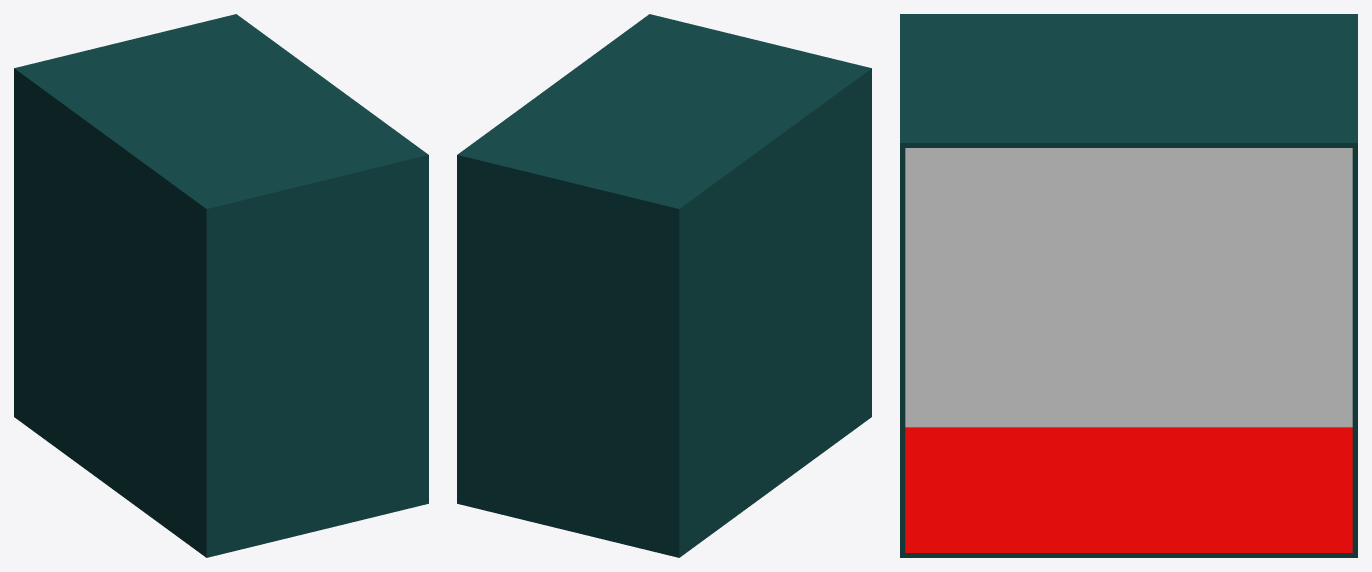
3 renders of one model, left to right at view 1: azimuth 30°, elevation 25°; view 2: azimuth 150°, elevation 25°; view 3: azimuth 270°, elevation 25°, orthographic. The views are drawn at different scales.
Parts seen in each view (by area): view 1: SM_box3x3; view 2: SM_box3x3; view 3: SM_box3x3.
Part boxes in pixels (x1,y1,x2,y2): SM_box3x3: (14, 14, 428, 557); SM_box3x3: (457, 14, 871, 557); SM_box3x3: (900, 14, 1357, 557).
Bounding box in the file's own units: 400 × 600 × 600.
